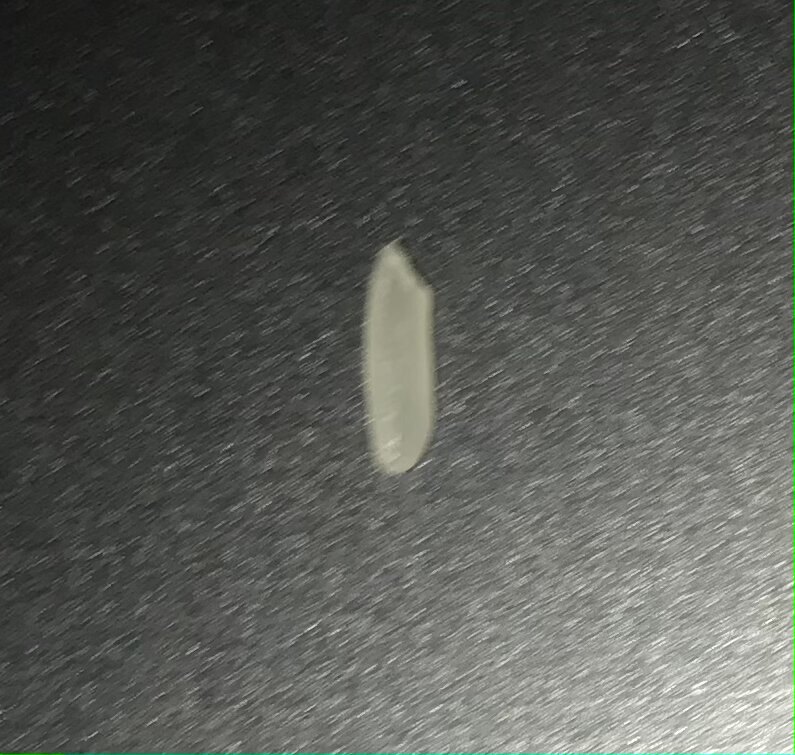Gao Long Lai: (353, 229, 445, 489)
